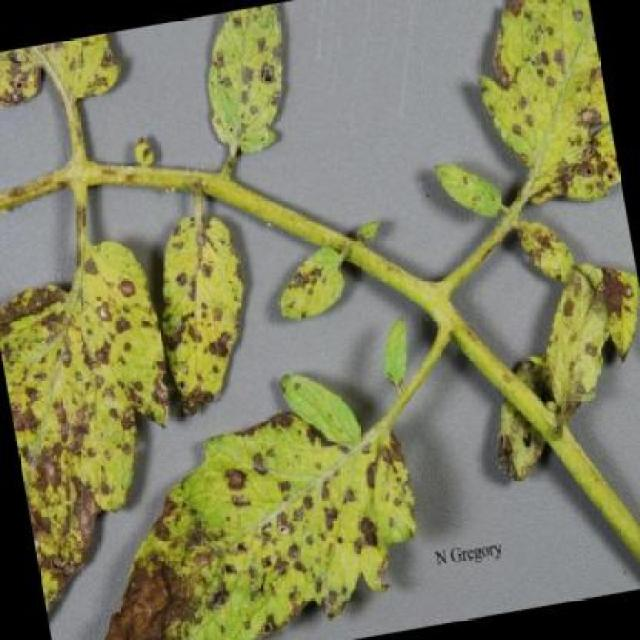Septoria leaf spot: (58, 412, 442, 639), (1, 188, 207, 597), (436, 1, 630, 250), (131, 210, 266, 434), (184, 1, 330, 176), (527, 240, 640, 437), (259, 239, 363, 352)
